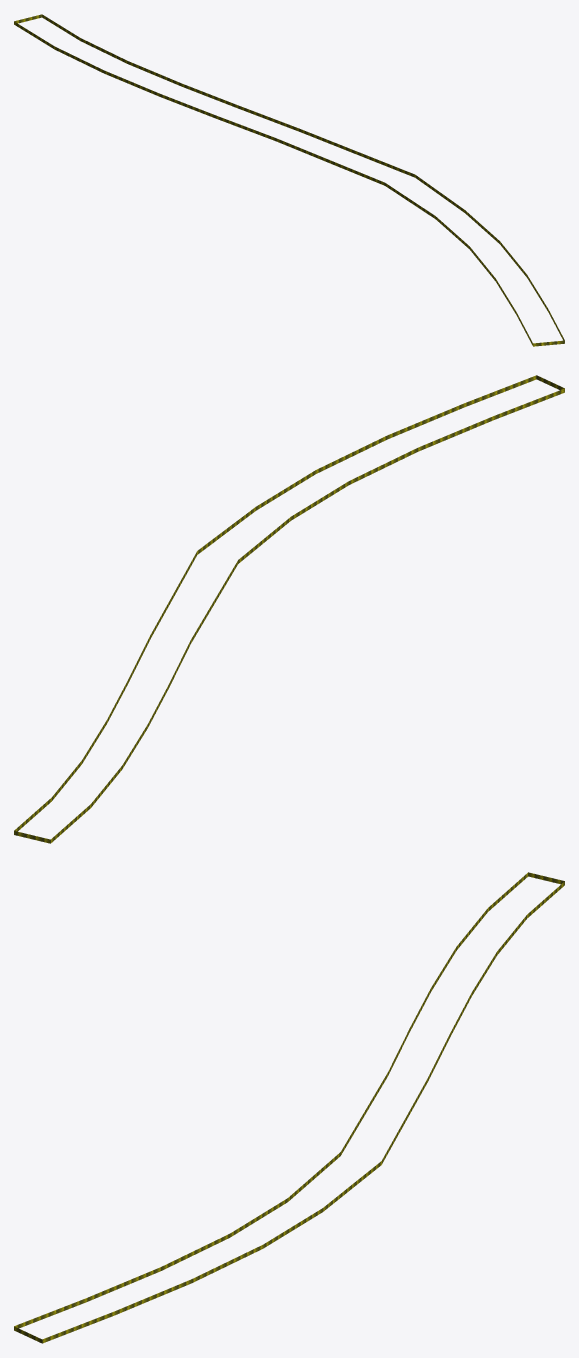
Rendered from aptcanopynit_lvs01.obj.
3 views of the same model, one above another, from view 1: azimuth 30°, elevation 25°; view 2: azimuth 150°, elevation 25°; view 3: azimuth 330°, elevation 25° (orthographic). The views are drawn at different scales.
Visible parts, largest first — view 1: aptcanopynit_lvs01; view 2: aptcanopynit_lvs01; view 3: aptcanopynit_lvs01.
Part boxes in pixels (bbox=[...]): aptcanopynit_lvs01: bbox=[14, 14, 564, 346]; aptcanopynit_lvs01: bbox=[14, 375, 564, 843]; aptcanopynit_lvs01: bbox=[14, 872, 564, 1343].
Size of the model in its own units: 25.86 by 0.7397 by 142.
Materials: 1 (1 with a texture image).
